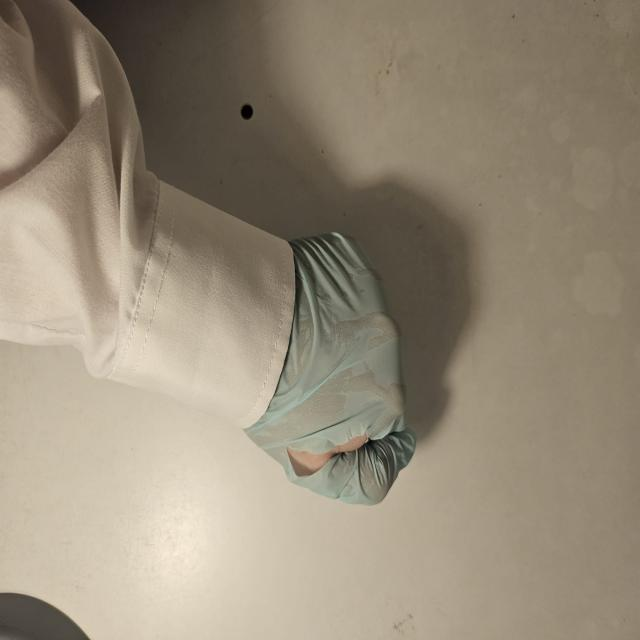gloves_damaged: (246, 221, 418, 516)
